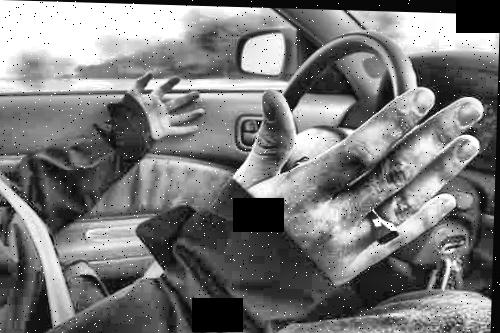seatbelt: (4, 163, 81, 325)
